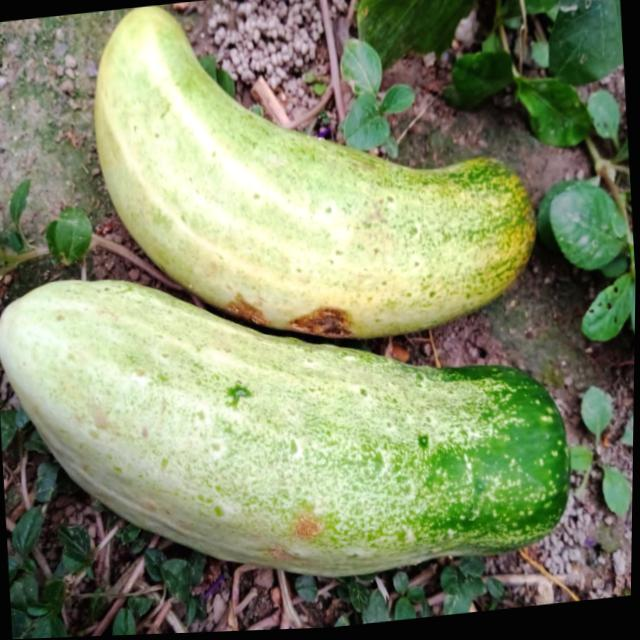Belly-Rot: (226, 272, 359, 349), (262, 507, 332, 579)
